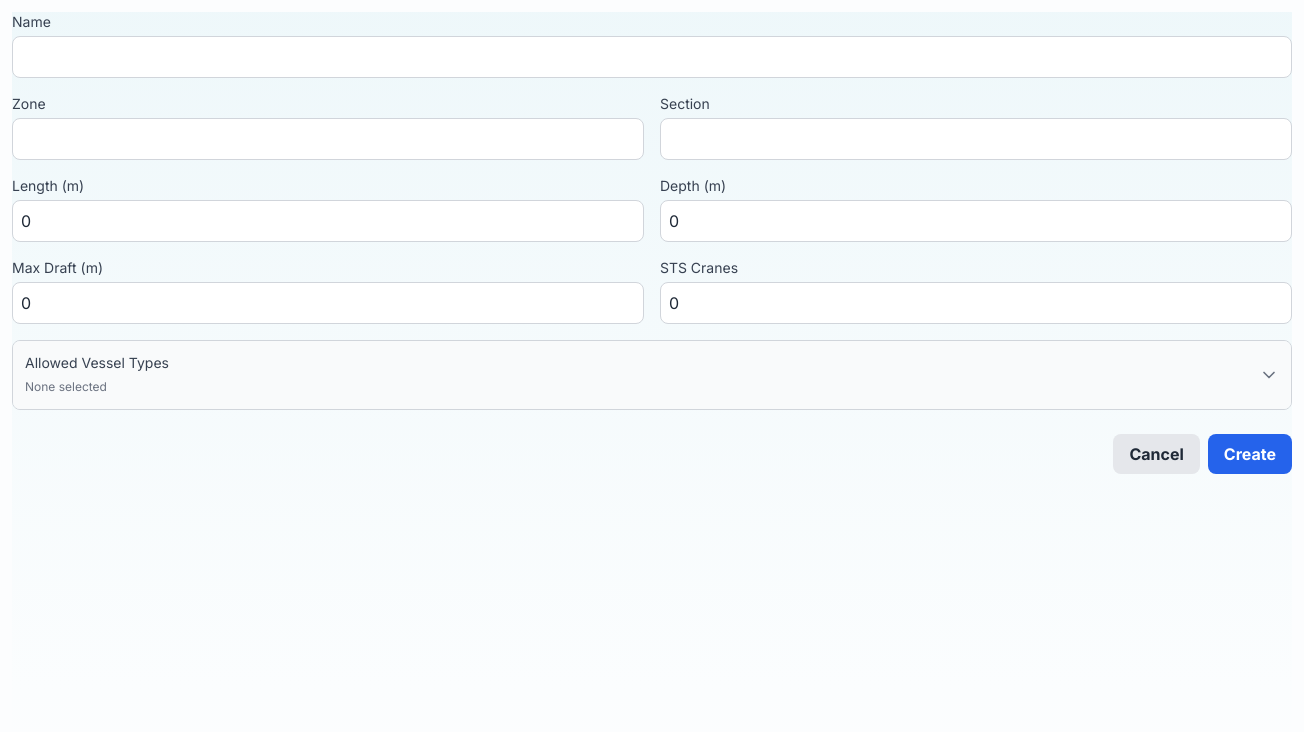
DockForm Component › handles vessel type dropdown interaction
Abrir o dropdown
Click the button "Allowed Vessel Types None selected" at (97, 362), box [13,341,1291,409]
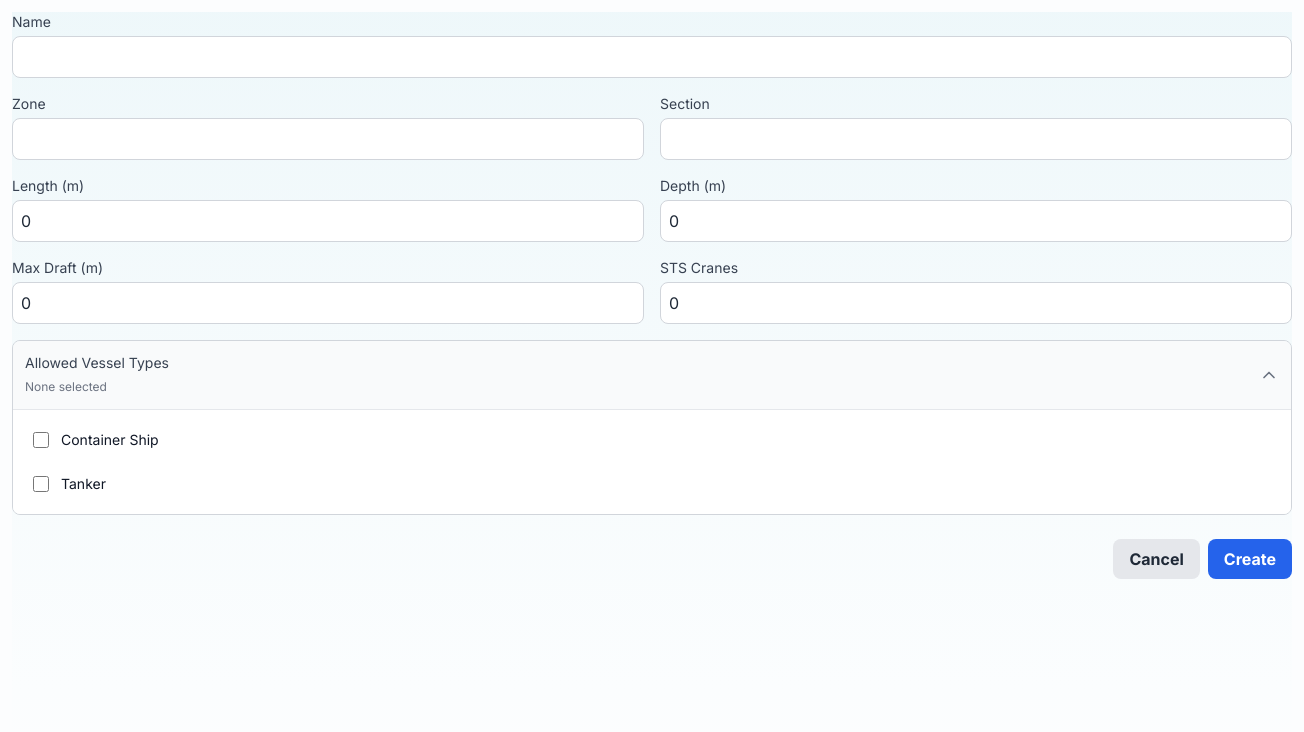
expect the text "Container Ship" is shown: met, box [61,430,159,450]
expect the text "Tanker" is shown: met, box [61,474,106,494]
Selecionar uma opção
Click the checkbox labelled "Container Ship" at (41, 440), box [33,432,49,448]
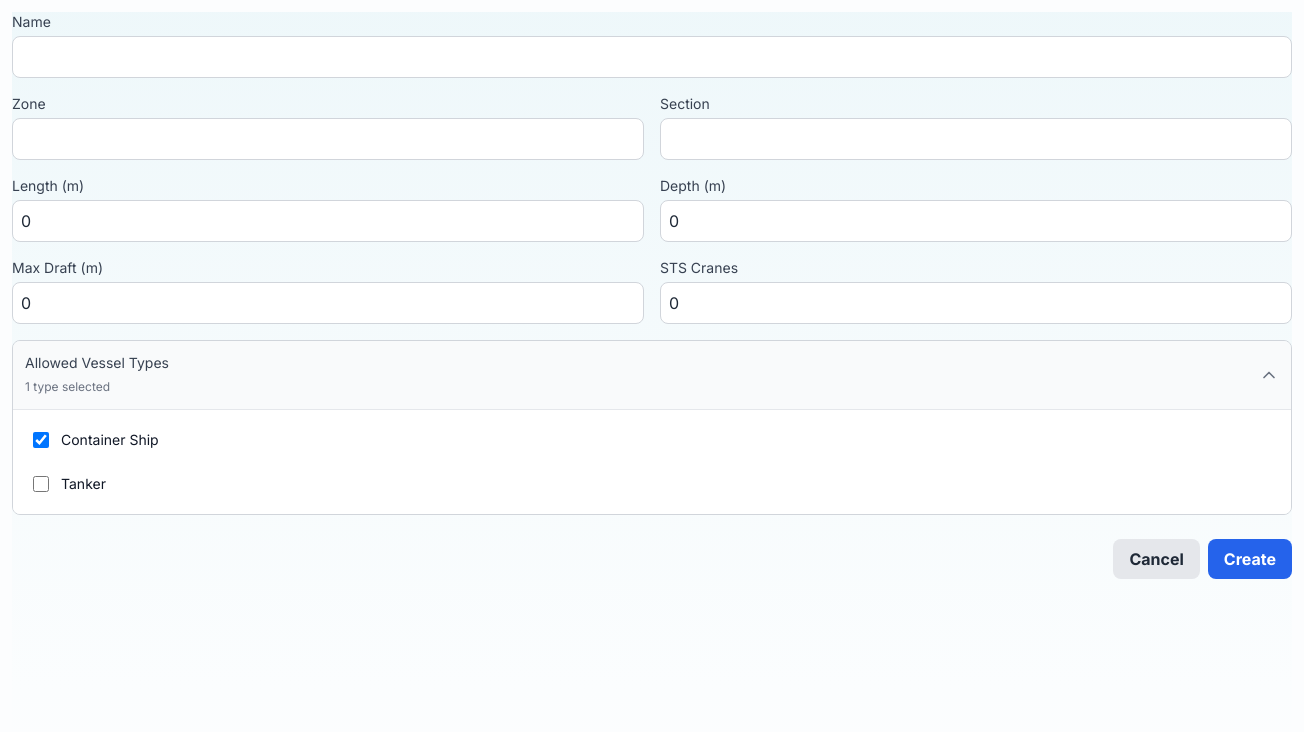
expect the text "1 type selected" is shown: met, box [25,379,110,394]
